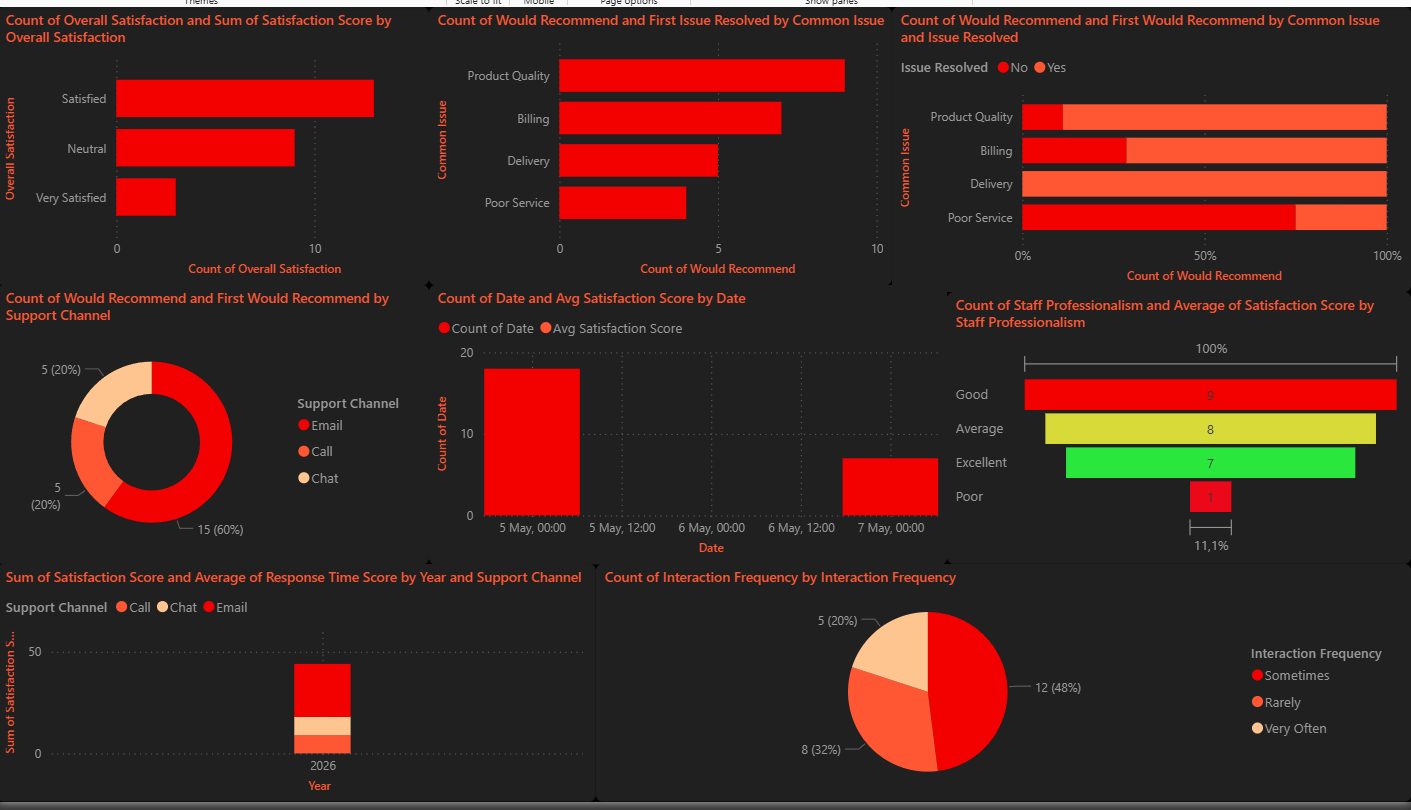

This screenshot's page, from the dashboard's own definition file:
{"tool":"powerbi","page":{"name":"Page 1","canvas":[1280,720],"ordinal":0},"visuals":[{"type":"clusteredBarChart","fields":{"Y":["CountNonNull(Survey Data.Overall Satisfaction)"],"Category":["Survey Data.Overall Satisfaction"]},"box":[0,0,391.1,251.7],"z":0},{"type":"clusteredBarChart","fields":{"Category":["Survey Data.Common Issue"],"Y":["CountNonNull(Survey Data.Would Recommend)"]},"box":[391.1,0,419.1,251.7],"z":1000},{"type":"hundredPercentStackedBarChart","fields":{"Category":["Survey Data.Common Issue"],"Y":["CountNonNull(Survey Data.Would Recommend)"],"Series":["Survey Data.Issue Resolved"]},"box":[810.2,0,469.8,258],"z":2000},{"type":"donutChart","fields":{"Category":["Survey Data.Support Channel"],"Y":["CountNonNull(Survey Data.Would Recommend)"]},"box":[0,251.7,391.1,252.6],"z":3000},{"type":"lineClusteredColumnComboChart","fields":{"Y":["CountNonNull(Survey Data.Date)"],"Y2":["Survey Data.Avg Satisfaction Score"],"Category":["Survey Data.Date"]},"box":[391.1,251.7,468.9,252.6],"z":4000},{"type":"funnel","fields":{"Category":["Survey Data.Staff Professionalism"],"Y":["CountNonNull(Survey Data.Staff Professionalism)"]},"box":[860,258,420,246.2],"z":5000},{"type":"pieChart","fields":{"Category":["Survey Data.Interaction Frequency"],"Y":["CountNonNull(Survey Data.Interaction Frequency)"]},"box":[542.2,504.2,737.8,215.4],"z":6000},{"type":"ribbonChart","fields":{"Category":["Survey Data.Date.Variation.Date Hierarchy.Year","Survey Data.Date.Variation.Date Hierarchy.Quarter","Survey Data.Date.Variation.Date Hierarchy.Month","Survey Data.Date.Variation.Date Hierarchy.Day"],"Y":["Sum(Survey Data.Satisfaction Score)"],"Series":["Survey Data.Support Channel"]},"box":[0,504.2,542.2,215.4],"z":7000}]}

Visuals, with their boxes on the page's 1280x720 design canvas (x1, y1, x2, y2). These are canvas units, not pixel positions in the 1411x810 screenshot, which may show the page scaled, cropped or inside an application window:
clusteredBarChart - CountNonNull(Survey Data.Overall Satisfaction) x Survey Data.Overall Satisfaction: rect(0, 0, 391, 252)
clusteredBarChart - Survey Data.Common Issue x CountNonNull(Survey Data.Would Recommend): rect(391, 0, 810, 252)
hundredPercentStackedBarChart - Survey Data.Common Issue x CountNonNull(Survey Data.Would Recommend): rect(810, 0, 1280, 258)
donutChart - Survey Data.Support Channel x CountNonNull(Survey Data.Would Recommend): rect(0, 252, 391, 504)
lineClusteredColumnComboChart - CountNonNull(Survey Data.Date) x Survey Data.Avg Satisfaction Score: rect(391, 252, 860, 504)
funnel - Survey Data.Staff Professionalism x CountNonNull(Survey Data.Staff Professionalism): rect(860, 258, 1280, 504)
pieChart - Survey Data.Interaction Frequency x CountNonNull(Survey Data.Interaction Frequency): rect(542, 504, 1280, 720)
ribbonChart - Survey Data.Date.Variation.Date Hierarchy.Year x Survey Data.Date.Variation.Date Hierarchy.Quarter: rect(0, 504, 542, 720)
